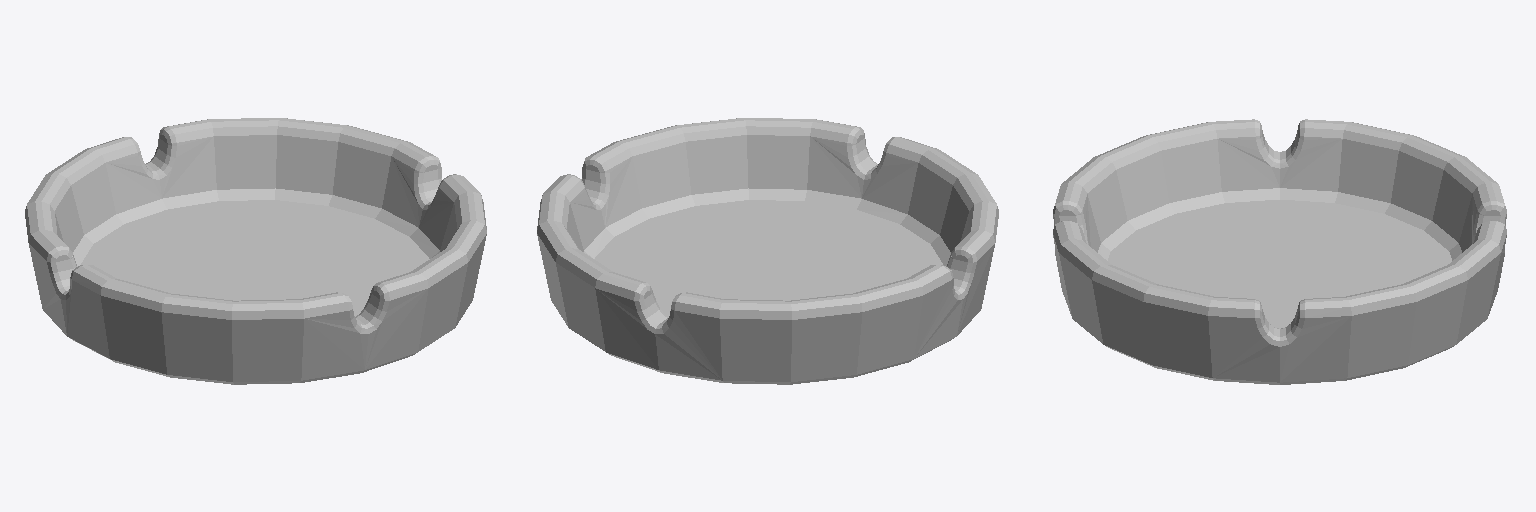
3 views of the same model, side by side, from view 1: azimuth 30°, elevation 25°; view 2: azimuth 150°, elevation 25°; view 3: azimuth 270°, elevation 25° (orthographic).
Parts seen in each view (by area): view 1: Cenicero; view 2: Cenicero; view 3: Cenicero.
Boxes of the visible parts, <box> form: Cenicero: <box>25,118,486,384</box>; Cenicero: <box>537,118,998,384</box>; Cenicero: <box>1053,119,1506,384</box>.
Bounding box in the file's own units: 17.89 × 3.91 × 17.89.
Materials: 1 (1 with a texture image).